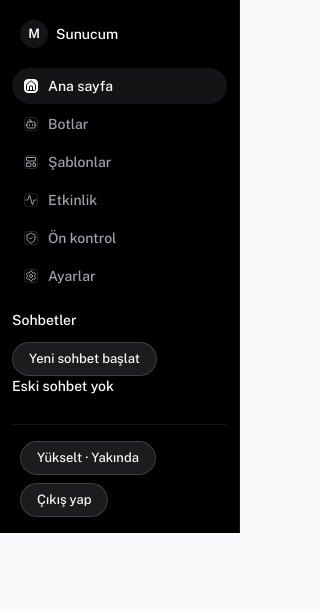
DashboardRail conversations › creates a new chat through the real ensure helper, then lists newest-first
This screenshot has width=320, height=612.
Expected: the text "Eski sohbet yok" is shown, [12,378,114,394]
Click the button "Yeni sohbet başlat".
click(84, 359)  # box [12,342,157,376]
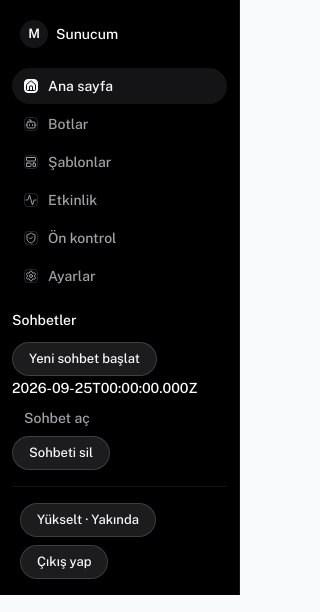
Expected: the number of buttons "Sohbet aç" is 1, [12,400,227,436]
